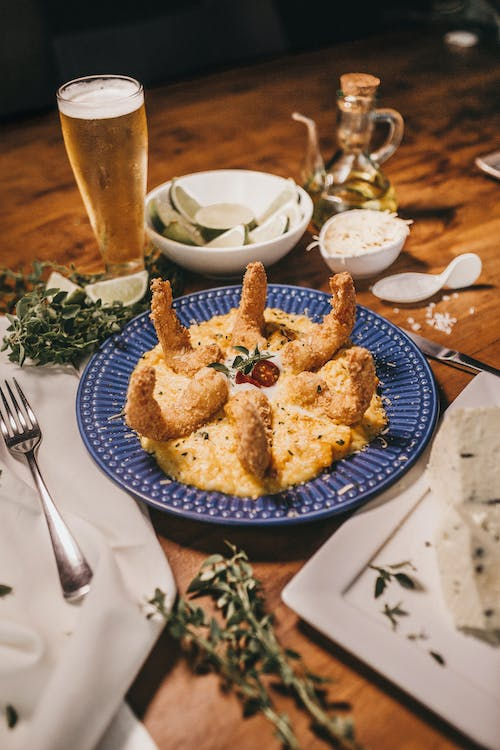alcohol: (56, 73, 150, 278)
knife: (395, 324, 500, 380)
